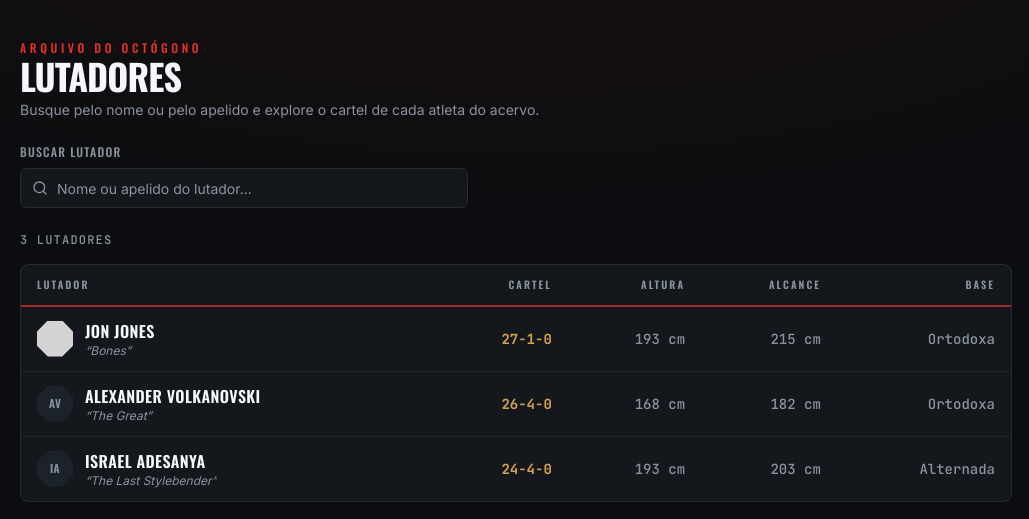
FightersPage › filtra server-side ao digitar e reflete o termo na URL como `q`
The image size is (1029, 519).
Expected: the link "Jon Jones" is shown, [85,319,155,343]
Type "volkanovski" into the search field labelled "Buscar lutador".
click(244, 188); type("volkanovski")  # box [20,168,468,208]
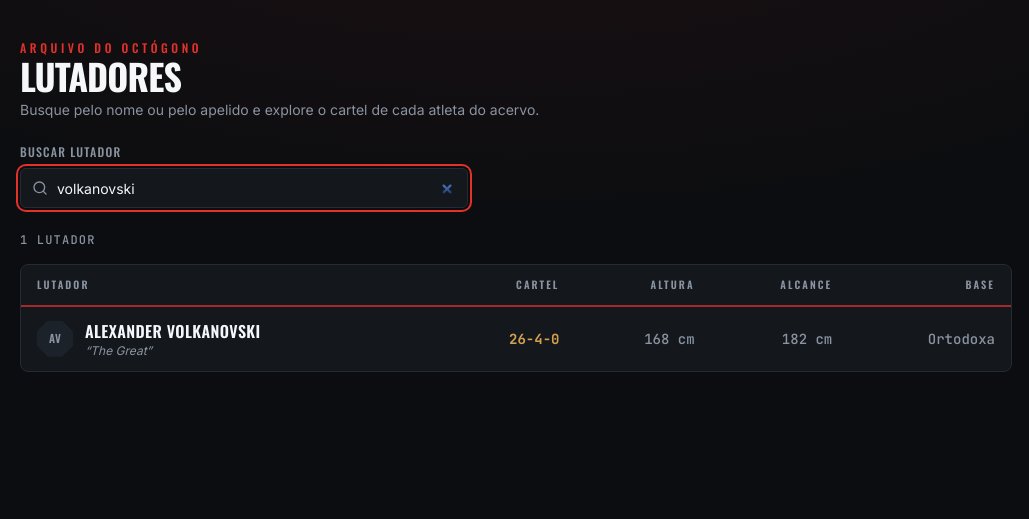
Expected: the link "Alexander Volkanovski" is shown, [85,319,261,343]
Expected: the link "Jon Jones" is gone
